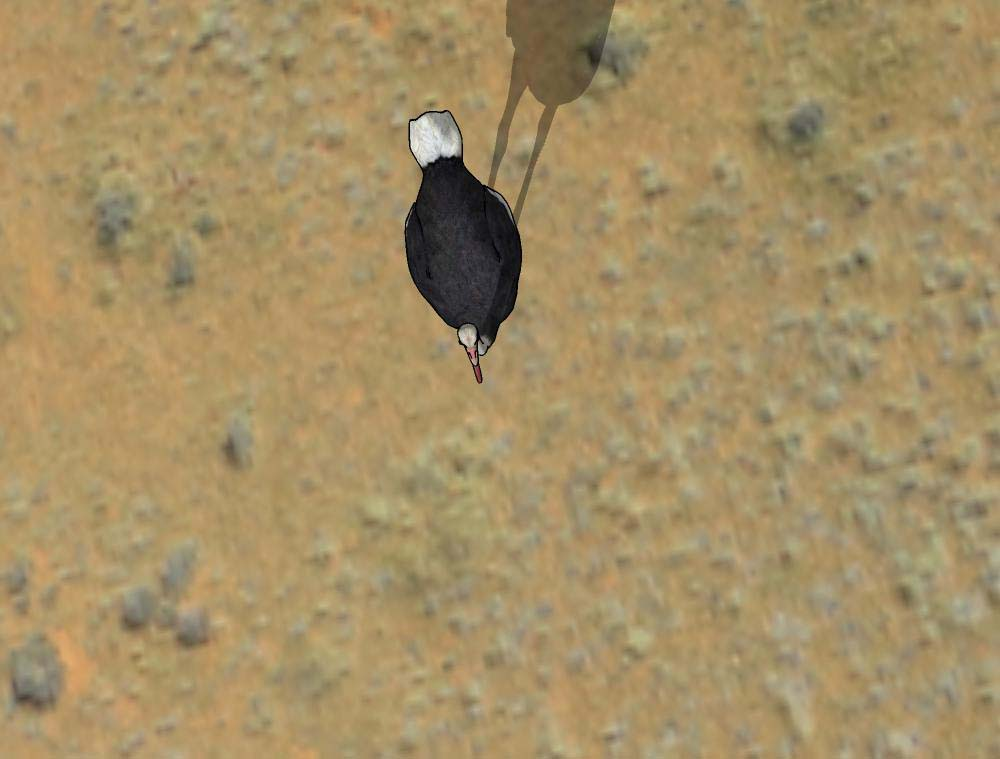springbok: (396, 106, 526, 393)
